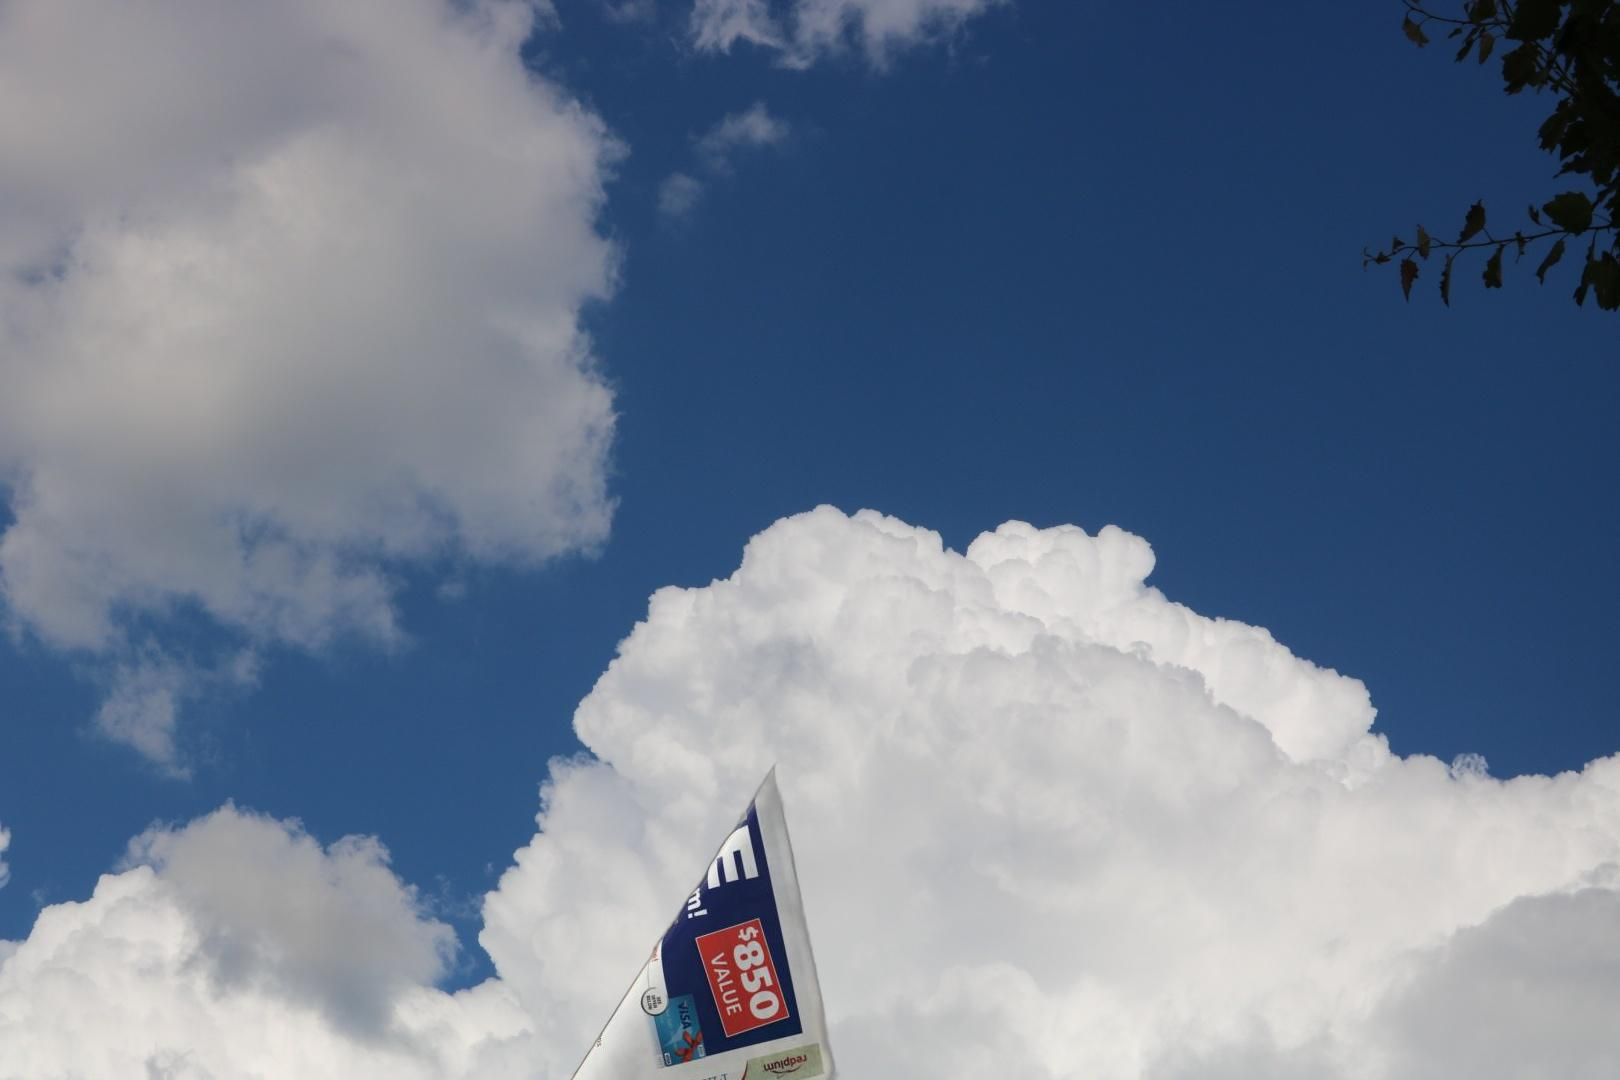paper: (545, 757, 937, 1080)
